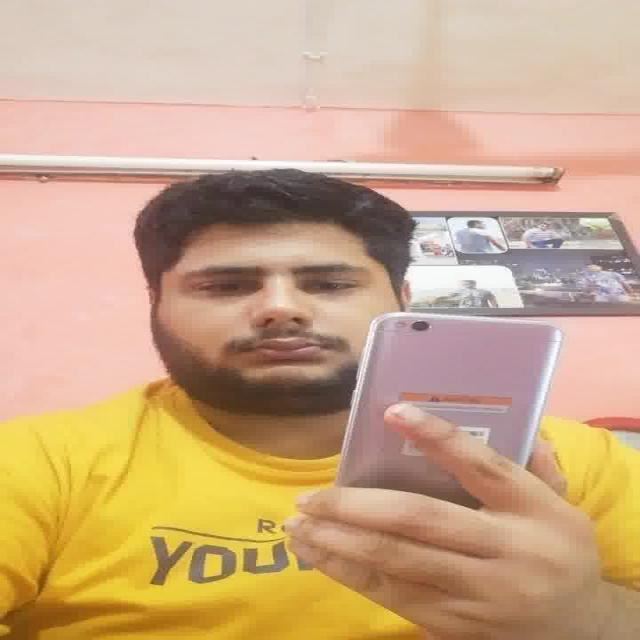Phone: (341, 311, 563, 496)
